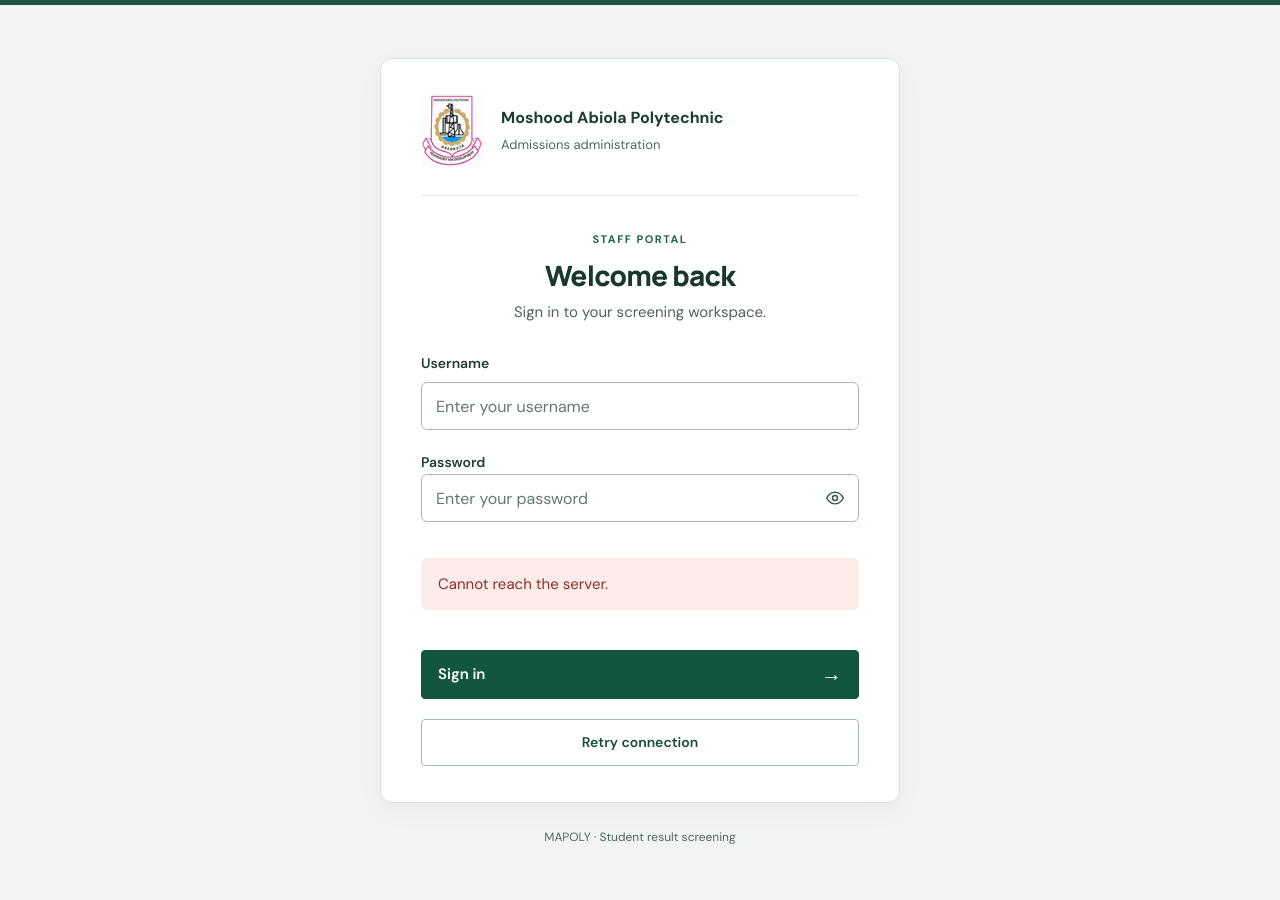
Test: manual screening workspace › shows connection errors and allows retry
Expected: the message reads "Cannot reach the server.", [438,574,608,594]
Click the button "Retry connection": (640, 742) [421,719,859,766]
(page scrolled)
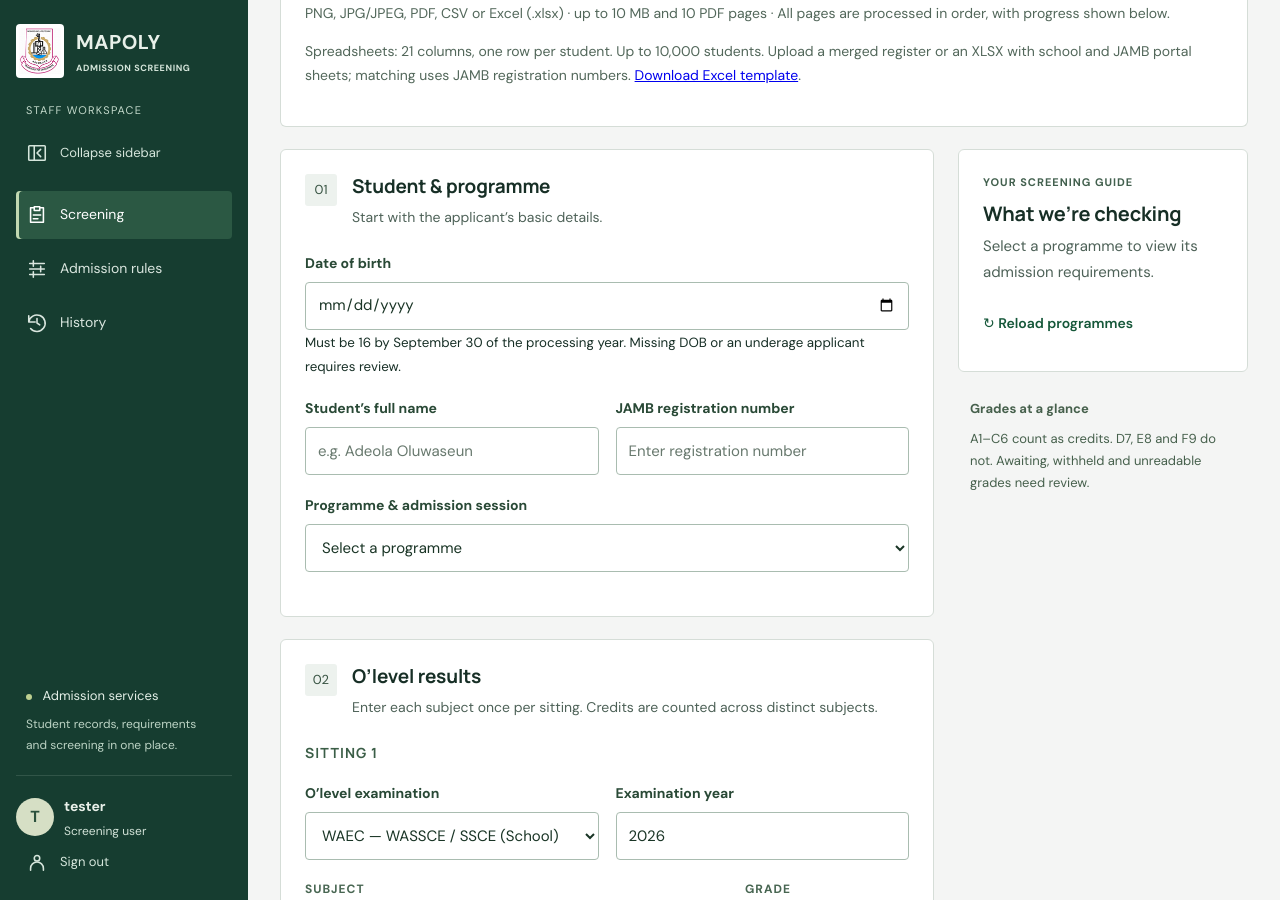
Expected: the field labelled "JAMB registration number" is shown, [616,427,909,475]
